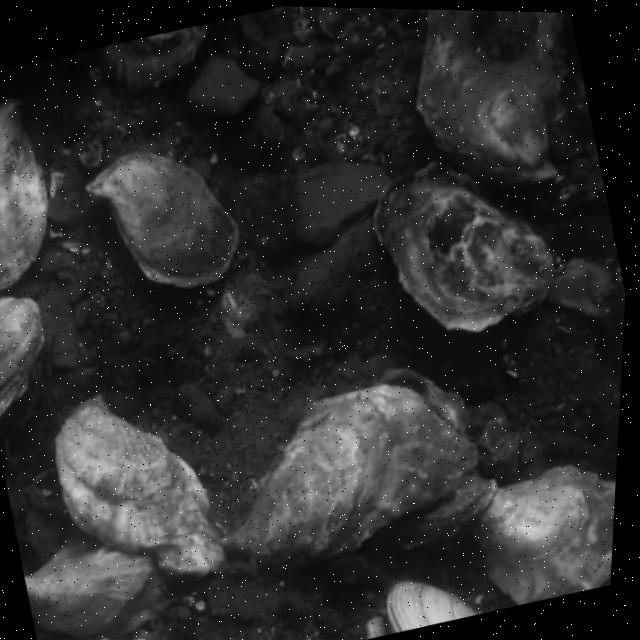Oyster-Closed: (88, 152, 240, 285)
Oyster-Indeterminate: (226, 383, 478, 560), (55, 392, 228, 578), (374, 158, 554, 332), (418, 10, 568, 185), (472, 466, 616, 603), (24, 529, 194, 635), (0, 97, 48, 291), (396, 472, 494, 549), (99, 22, 212, 87), (0, 297, 43, 417)
